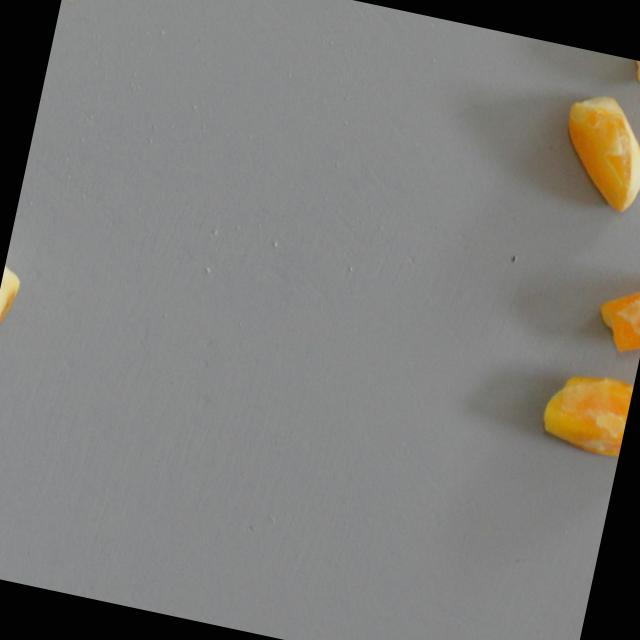dañado: (527, 359, 635, 465)
pelicula: (542, 80, 640, 216), (587, 240, 640, 359), (0, 231, 36, 356), (615, 57, 640, 99)
